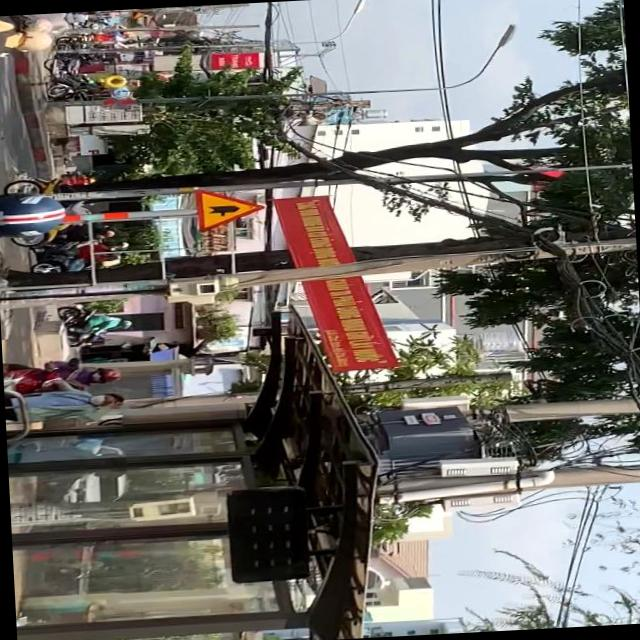W-207b: (197, 187, 267, 230)
